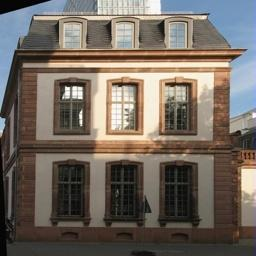building: (16, 1, 244, 251)
